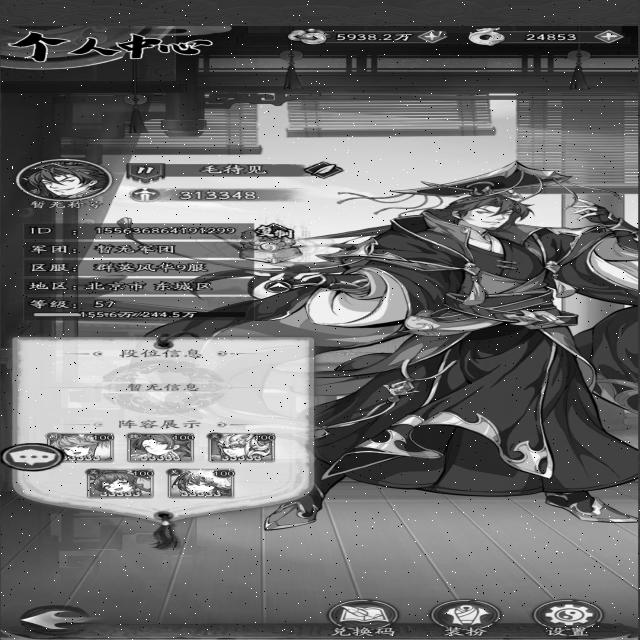hint-reddot: (427, 28, 453, 38)
operation-back: (12, 603, 103, 636)
